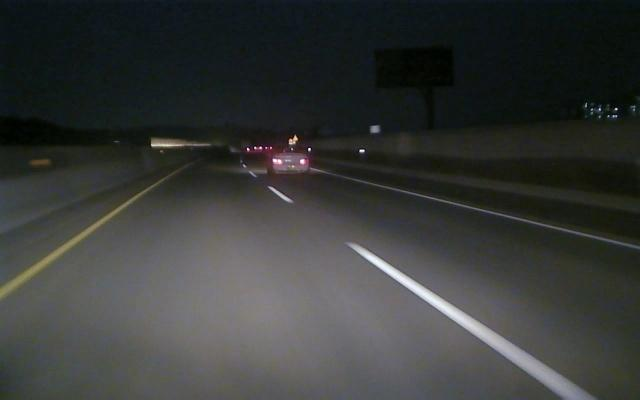lane: (272, 187, 599, 399), (368, 181, 640, 251), (3, 189, 147, 298)
